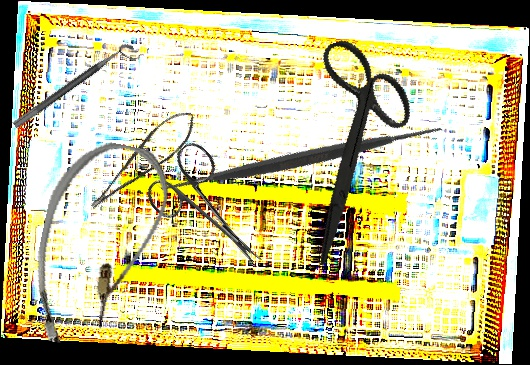Cannula: (20, 132, 177, 359)
Fixation Ring: (11, 40, 141, 139)
Iris Scissors: (249, 25, 453, 266), (137, 137, 288, 289)
Micro Scissor: (75, 104, 206, 213)
Spatula Surgical: (145, 3, 457, 314)
